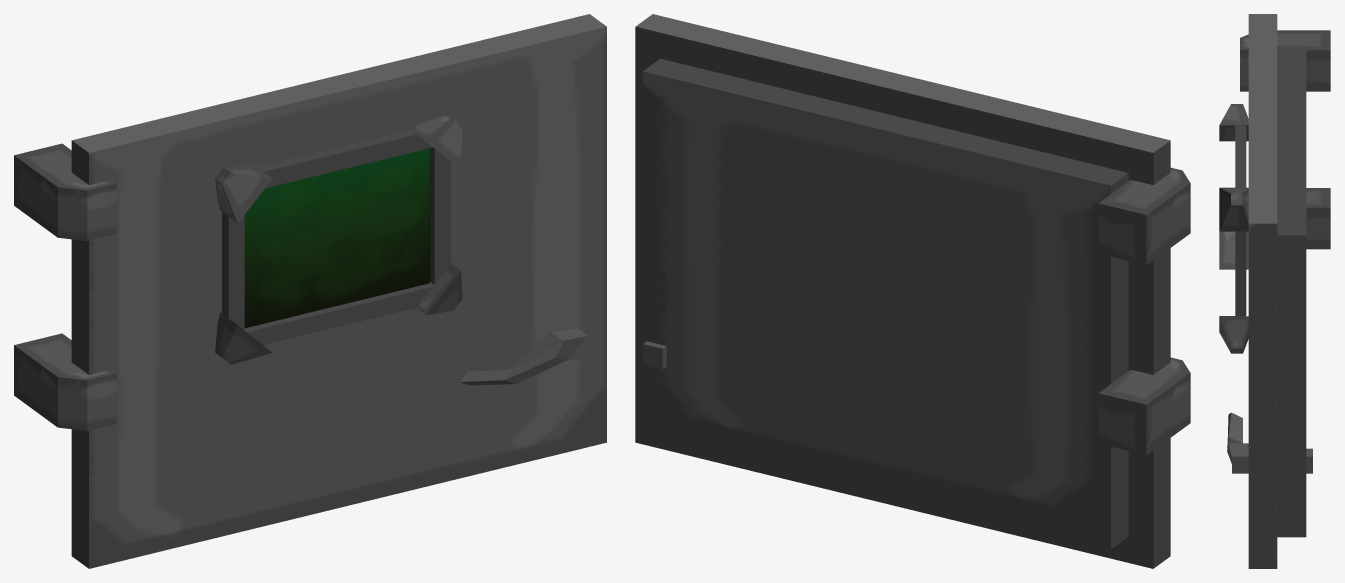
File: fijokaWide.glb
3 views of the same model, side by side, from view 1: azimuth 30°, elevation 25°; view 2: azimuth 150°, elevation 25°; view 3: azimuth 270°, elevation 25° (orthographic). The views are drawn at different scales.
Visible parts, largest first — view 1: VrataHor, kvaka.001; view 2: VrataHor; view 3: VrataHor, kvaka.001.
Part boxes in pixels (left/top/right/bottom): VrataHor: left=14, top=14, right=606, bottom=568; kvaka.001: left=460, top=328, right=587, bottom=385; VrataHor: left=635, top=14, right=1190, bottom=568; VrataHor: left=1219, top=14, right=1330, bottom=568; kvaka.001: left=1227, top=412, right=1312, bottom=473.
Bounding box in the file's own units: 2.91 × 2.13 × 0.6238.
1 material, 1 textured.
